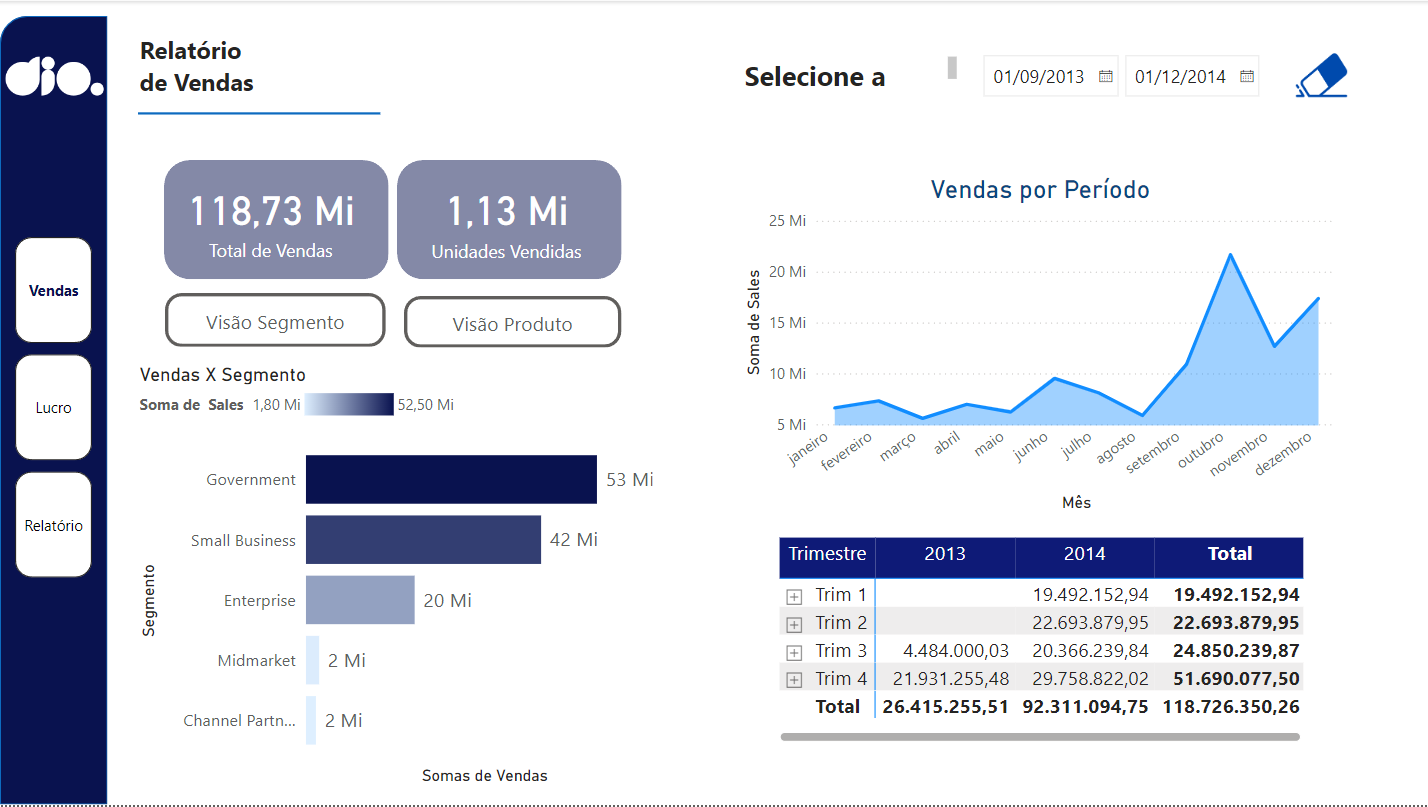

Layout of this report page (visuals, bound fields, positions):
{"tool":"powerbi","page":{"name":"Vendas","canvas":[1280,720],"ordinal":0},"visuals":[{"type":"group","id":"g1","title":"Layout","box":[0,13.4,98.2,706.2],"z":0},{"type":"shape","box":[0,13.4,96.4,706.2],"z":0,"group":"g1"},{"type":"slicer","fields":{"Values":["financials.Date"]},"box":[867.2,38.7,272.2,55],"z":0,"group":"g3"},{"type":"shape","box":[123.8,84.5,217.2,33],"z":0,"group":"g4"},{"type":"shape","box":[147.2,142.2,201.4,106.8],"z":0,"group":"g2"},{"type":"areaChart","title":"Vendas por Período","fields":{"Category":["financials.Date.Variation.Hierarquia de datas.Ano","financials.Date.Variation.Hierarquia de datas.Mês"],"Y":["Sum(financials. Sales)"]},"box":[661.6,156.1,539.7,306.2],"z":0,"group":"g5"},{"type":"textbox","box":[120,24.2,214.9,67.2],"z":1000,"group":"g4"},{"type":"image","title":"logo_dio","box":[0,35.7,98.2,63.2],"z":1000,"group":"g1"},{"type":"textbox","box":[661.6,44.7,199.6,45.6],"z":1000,"group":"g3"},{"type":"shape","box":[355.9,142.2,201.4,106.8],"z":1000,"group":"g2"},{"type":"clusteredBarChart","title":"Vendas X Segmento","fields":{"Category":["financials.Segment"],"Y":["Sum(financials. Sales)"]},"box":[120.4,324,479.3,383],"z":1000},{"type":"actionButton","box":[1153.4,43.3,59.9,51.3],"z":2000,"group":"g3"},{"type":"card","fields":{"Values":["Sum(financials. Sales)"]},"box":[161.1,141.2,162.6,106.9],"z":2000,"group":"g2"},{"type":"image","title":"clean","box":[1153.4,39,59.9,55.6],"z":3000,"group":"g3"},{"type":"card","fields":{"Values":["Sum(financials.Units Sold)"]},"box":[375.8,145.4,156.5,98.6],"z":3000,"group":"g2"},{"type":"group","id":"g2","title":"Cartões","box":[147.2,141.2,410.3,107],"z":4000},{"type":"actionButton","title":"B-Segmento","box":[147.9,261.6,197.5,48.4],"z":5000},{"type":"actionButton","title":"B-Produto","box":[362.2,264.3,194.6,46.3],"z":6000},{"type":"group","id":"g3","title":"Filtro por data","box":[661.6,38.7,551.5,55],"z":7000},{"type":"group","id":"g4","title":"Title report","box":[120,24.2,221,93.3],"z":8000},{"type":"shape","box":[584.3,117.4,640.7,590.2],"z":9000},{"type":"group","id":"g5","title":"Perspectiva temporal das vendas","box":[661.6,156.1,539.7,306.2],"z":10000},{"type":"pivotTable","fields":{"Values":["Sum(financials. Sales)"],"Columns":["financials.Date.Variation.Hierarquia de datas.Ano"],"Rows":["financials.Date.Variation.Hierarquia de datas.Trimestre","financials.Date.Variation.Hierarquia de datas.Mês"]},"box":[692.8,475.7,478.7,193.3],"z":11000},{"type":"pageNavigator","box":[13.4,211.1,69.9,306.2],"z":12000}]}

Visuals, with their boxes in screenshot pixels (x1, y1, x2, y2), scaled from the page's 1280x720 canvas onto the 1428x807 screenshot:
"Layout" group: bbox(0, 15, 110, 806)
shape: bbox(0, 15, 108, 806)
slicer - financials.Date: bbox(967, 43, 1271, 105)
shape: bbox(138, 95, 380, 132)
shape: bbox(164, 159, 389, 279)
"Vendas por Período" areaChart: bbox(738, 175, 1340, 518)
textbox: bbox(134, 27, 374, 102)
"logo_dio" image: bbox(0, 40, 110, 111)
textbox: bbox(738, 50, 961, 101)
shape: bbox(397, 159, 622, 279)
"Vendas X Segmento" clusteredBarChart: bbox(134, 363, 669, 792)
actionButton: bbox(1287, 49, 1354, 106)
card - Sum(financials. Sales): bbox(180, 158, 361, 278)
"clean" image: bbox(1287, 44, 1354, 106)
card - Sum(financials.Units Sold): bbox(419, 163, 594, 273)
"Cartões" group: bbox(164, 158, 622, 278)
"B-Segmento" actionButton: bbox(165, 293, 385, 347)
"B-Produto" actionButton: bbox(404, 296, 621, 348)
"Filtro por data" group: bbox(738, 43, 1353, 105)
"Title report" group: bbox(134, 27, 380, 132)
shape: bbox(652, 132, 1367, 793)
"Perspectiva temporal das vendas" group: bbox(738, 175, 1340, 518)
pivotTable - Sum(financials. Sales) x financials.Date.Variation.Hierarquia de datas.Ano: bbox(773, 533, 1307, 750)
pageNavigator: bbox(15, 237, 93, 580)
